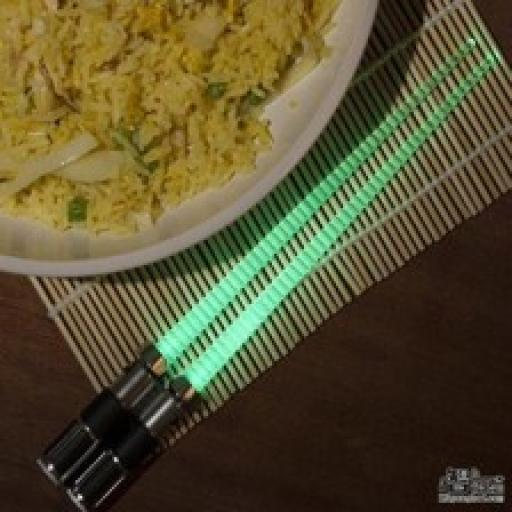lightsaber: (70, 50, 503, 512), (40, 36, 480, 482)
